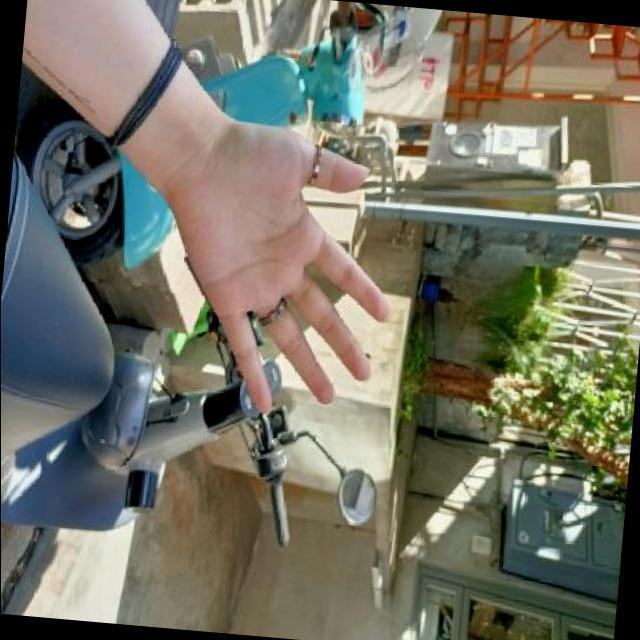Hand: (132, 129, 396, 419)
